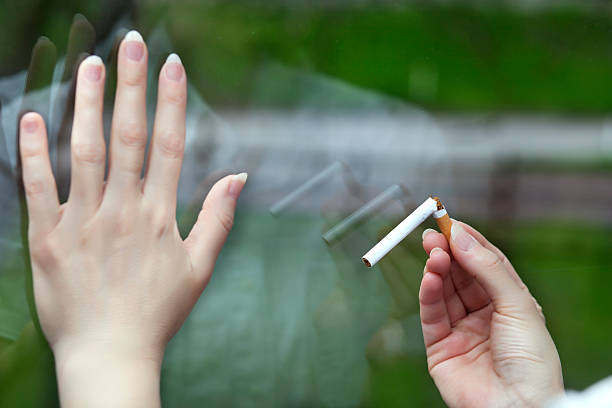cigarette: (363, 196, 440, 267), (320, 183, 403, 247), (267, 161, 346, 219), (433, 204, 455, 238)
